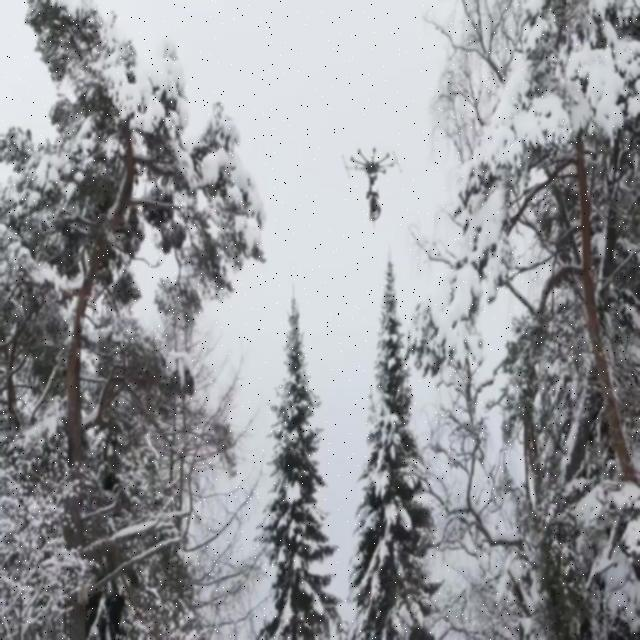UAV: (342, 147, 402, 185)
